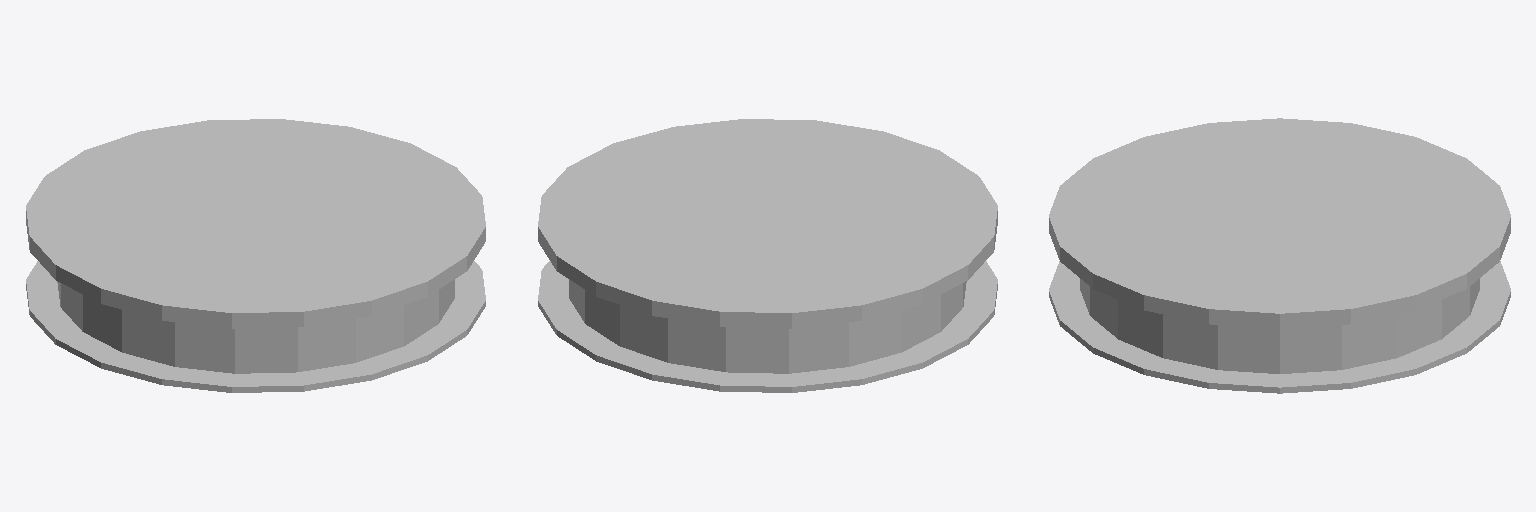
File: lab1Platform_levelthree_jg.obj
3 views of the same model, side by side, from view 1: azimuth 30°, elevation 25°; view 2: azimuth 150°, elevation 25°; view 3: azimuth 270°, elevation 25° (orthographic).
Parts seen in each view (by area): view 1: pCylinder4 grp_lab1_platform; view 2: pCylinder4 grp_lab1_platform; view 3: pCylinder4 grp_lab1_platform.
Boxes of the visible parts, <box> form: pCylinder4 grp_lab1_platform: <box>26,119,485,392</box>; pCylinder4 grp_lab1_platform: <box>538,119,997,392</box>; pCylinder4 grp_lab1_platform: <box>1049,118,1510,393</box>.
Bounding box in the file's own units: 268 × 50.94 × 268.